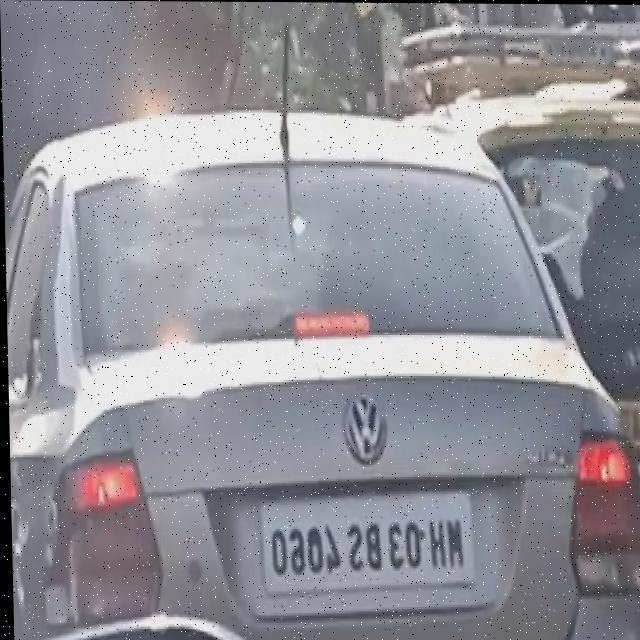plate: (256, 482, 476, 610)
